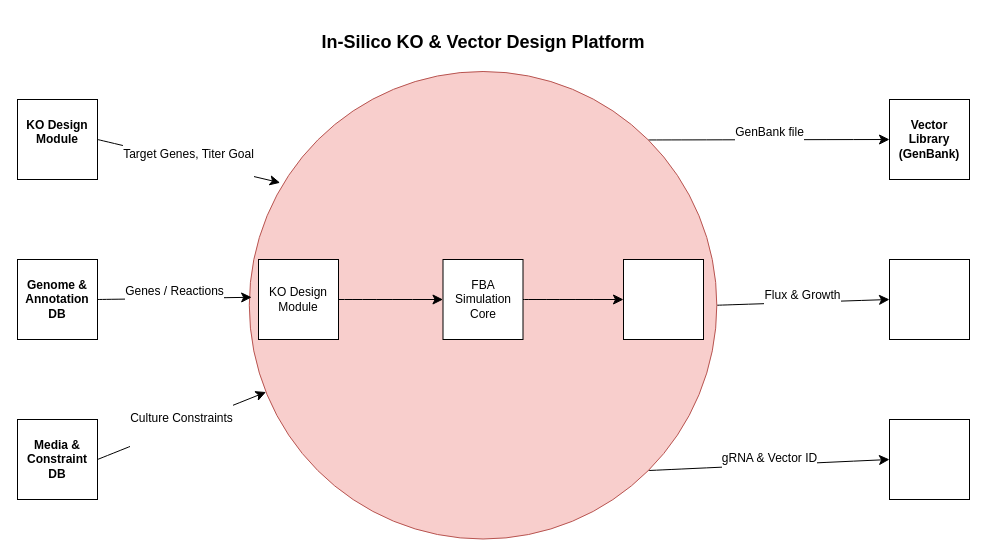
Image size: 987x556. Some labels were removed from this diagram. The shapes that lost their labels are listed below. From the top down, each one's centre as x and y in pixels, then its label:
the point at 663,299: Vector Assembly Engine
the point at 929,299: Simulation Report Dashboard
the point at 929,459: Lab LIMS
